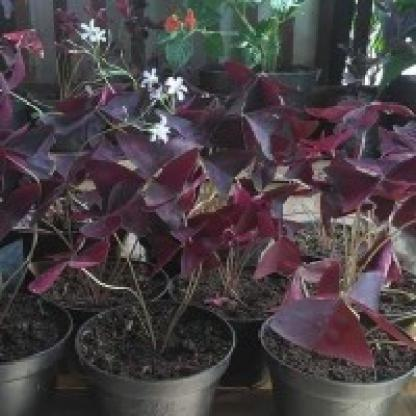Kupu-Kupu: (45, 182, 394, 284), (47, 70, 392, 170), (286, 288, 394, 386)
